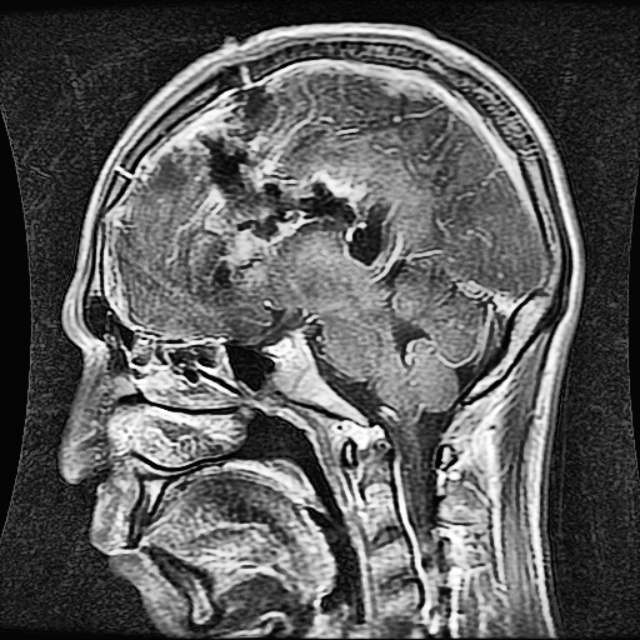Meningioma: (198, 88, 390, 287)
